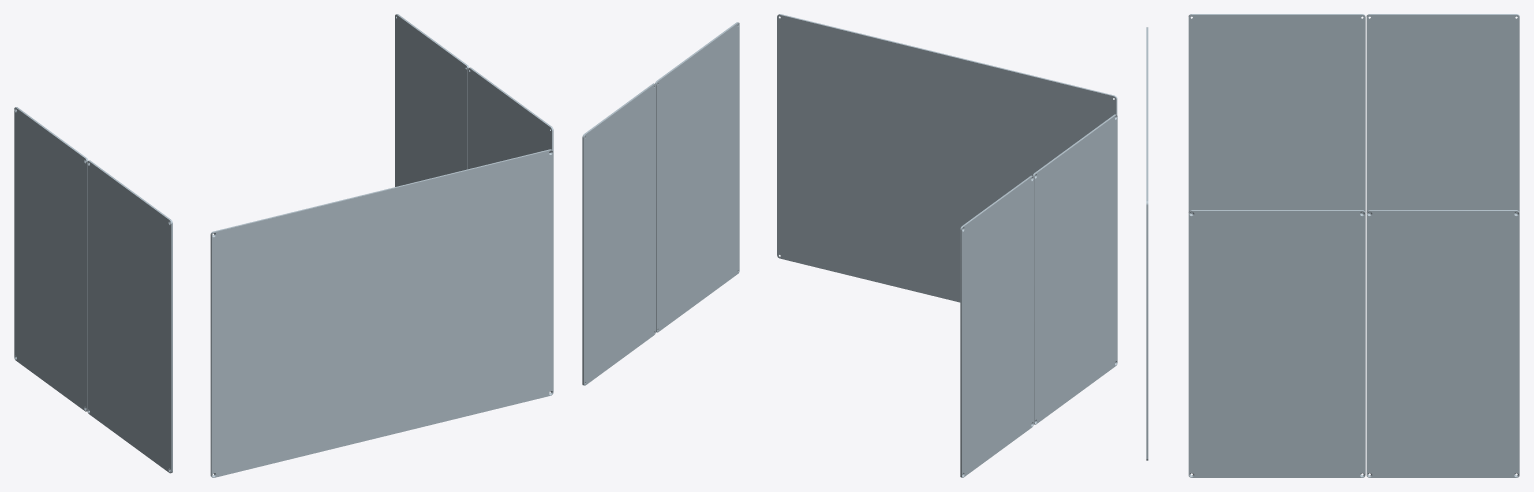
The model's file is cad_windows.obj.
3 views of the same model, side by side, from view 1: azimuth 30°, elevation 25°; view 2: azimuth 150°, elevation 25°; view 3: azimuth 270°, elevation 25° (orthographic). The views are drawn at different scales.
Visible parts, largest first — view 1: cad_windows_1, cad_windows_0, cad_windows_3, cad_windows_4, cad_windows_2; view 2: cad_windows_1, cad_windows_0, cad_windows_2, cad_windows_3, cad_windows_4; view 3: cad_windows_2, cad_windows_4, cad_windows_0, cad_windows_3, cad_windows_1.
Boxes of the visible parts, left/top/right/bottom form: cad_windows_1: left=210, top=149, right=553, bottom=477; cad_windows_0: left=87, top=160, right=172, bottom=473; cad_windows_3: left=14, top=107, right=88, bottom=411; cad_windows_4: left=395, top=14, right=469, bottom=186; cad_windows_2: left=468, top=67, right=553, bottom=169; cad_windows_1: left=777, top=14, right=1117, bottom=302; cad_windows_0: left=1033, top=114, right=1117, bottom=424; cad_windows_2: left=655, top=22, right=739, bottom=332; cad_windows_3: left=960, top=175, right=1033, bottom=477; cad_windows_4: left=582, top=83, right=655, bottom=385; cad_windows_2: left=1188, top=210, right=1365, bottom=477; cad_windows_4: left=1366, top=210, right=1519, bottom=477; cad_windows_0: left=1188, top=14, right=1365, bottom=213; cad_windows_3: left=1366, top=14, right=1519, bottom=213; cad_windows_1: left=1146, top=27, right=1148, bottom=460.
Size of the model in its own units: 0.8702 by 0.5499 by 0.6974.
